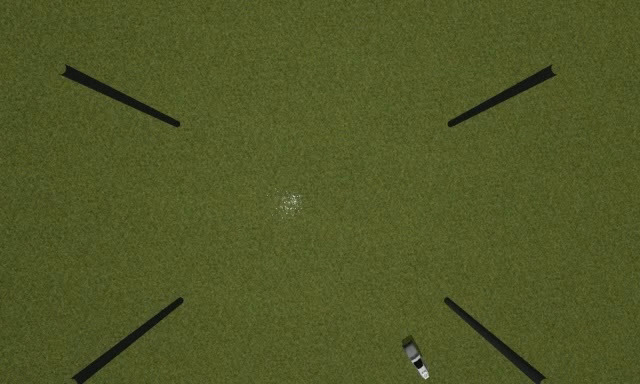Car: (402, 340, 430, 380)
